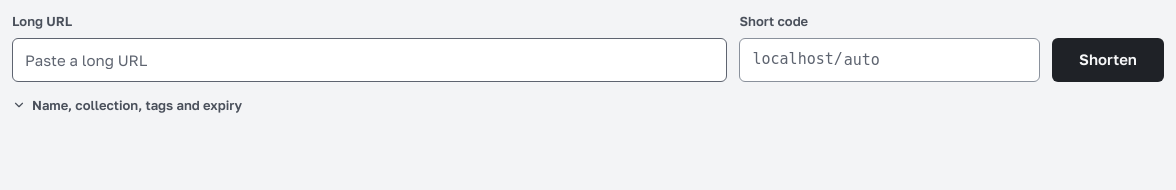
Test: CreateLinkForm › creates a link with a derived name and scheme, then shows the code
This screenshot has width=1176, height=190.
Type "example.com/page" into the field labelled "Long URL" at coordinates (370, 60), box left=12, top=38, right=728, bottom=82
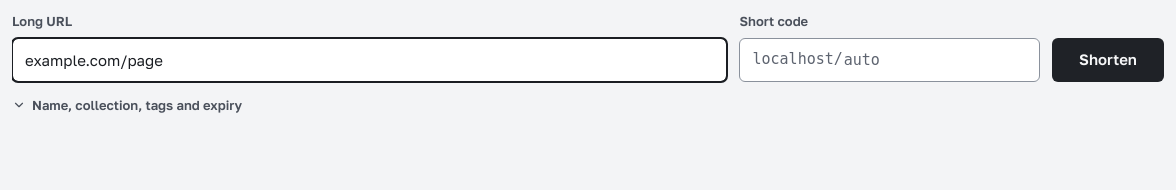
Click the button "Shorten" at coordinates (1108, 60), box left=1052, top=38, right=1164, bottom=82
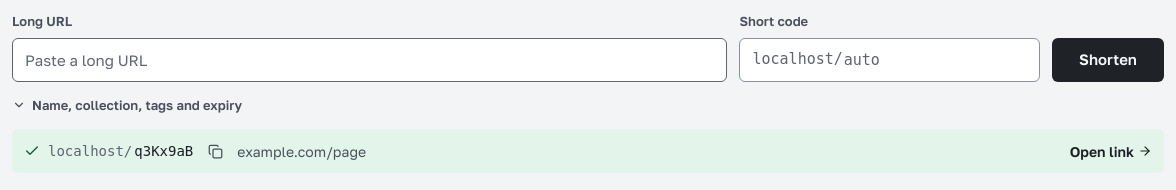
Check: the text "q3Kx9aB" is shown, box left=134, top=140, right=193, bottom=162
